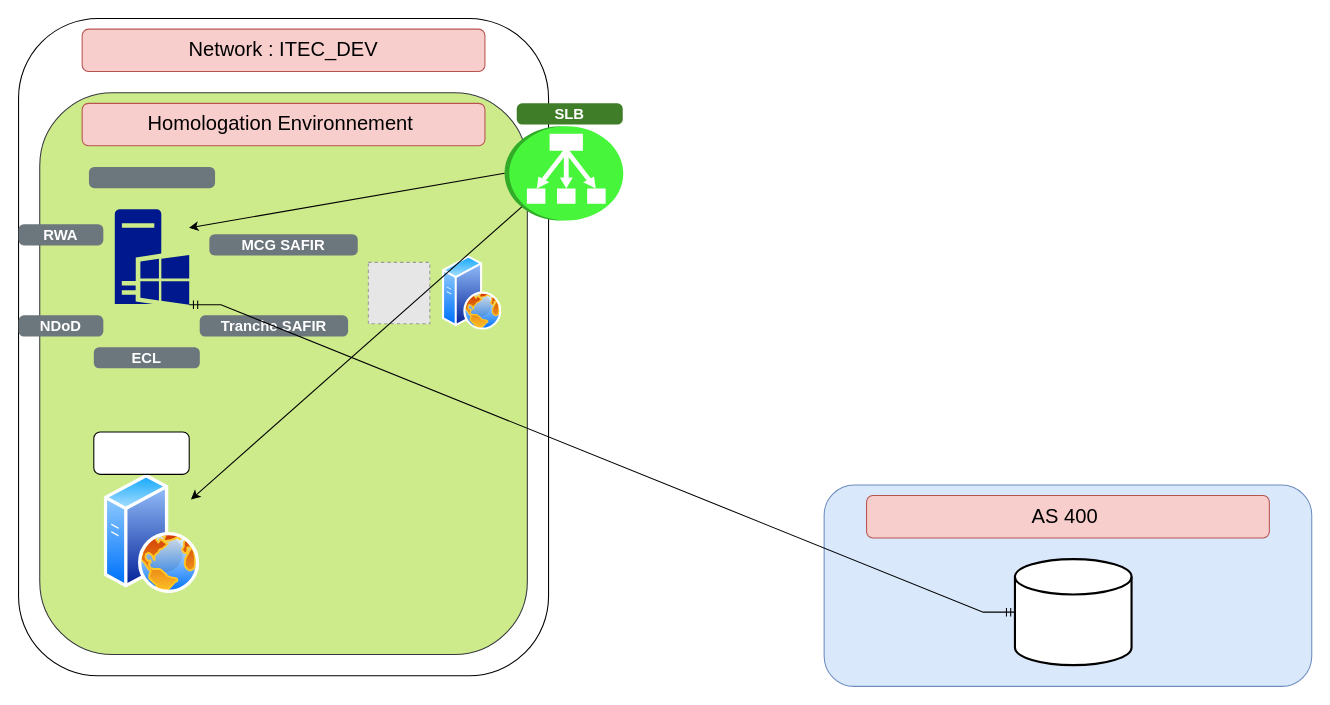
This 1330x705 diagram has some shape labels left out. Grey dashed boxes stand in for pictures. The centre of each missing label's shape, as x and y in pixels:
batch commun: point (151, 177)
CentOS 7 NGINX: point (141, 452)
DB2: point (1072, 612)
